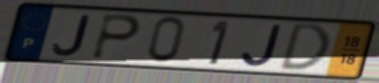0: (145, 15, 188, 66)
1: (208, 19, 232, 68)
D: (276, 21, 333, 72)
J: (238, 23, 285, 69), (50, 14, 92, 57)
P: (88, 12, 144, 62)
